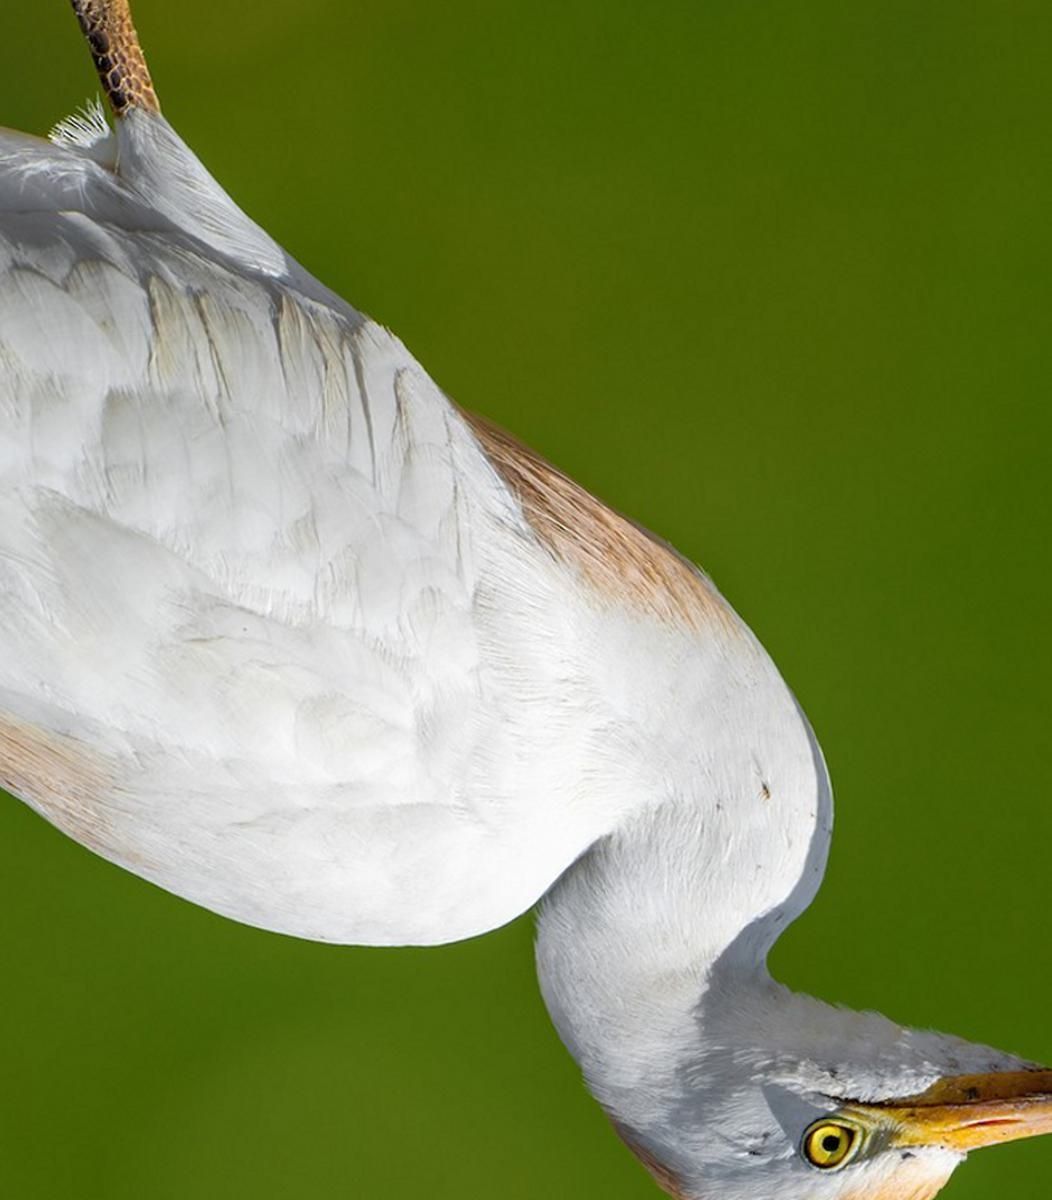egret: (1, 1, 1047, 1195)
